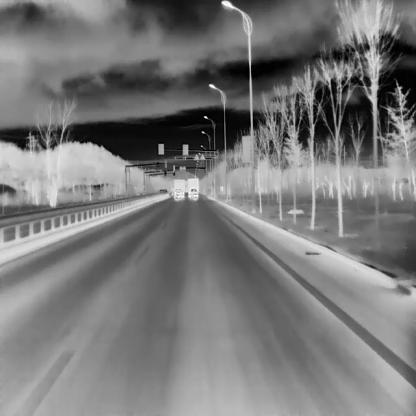car: (173, 188, 182, 199), (188, 188, 197, 198)
truck: (174, 178, 184, 196), (188, 178, 198, 196)
